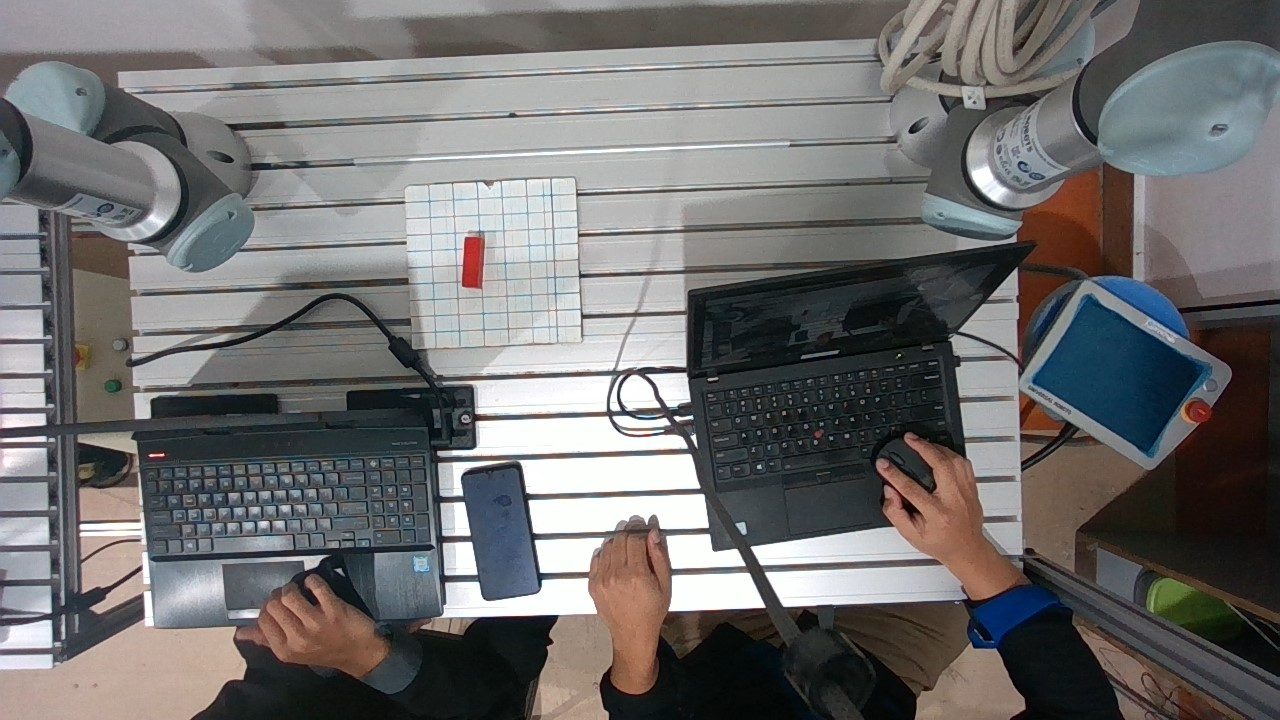box: (454, 224, 490, 300)
